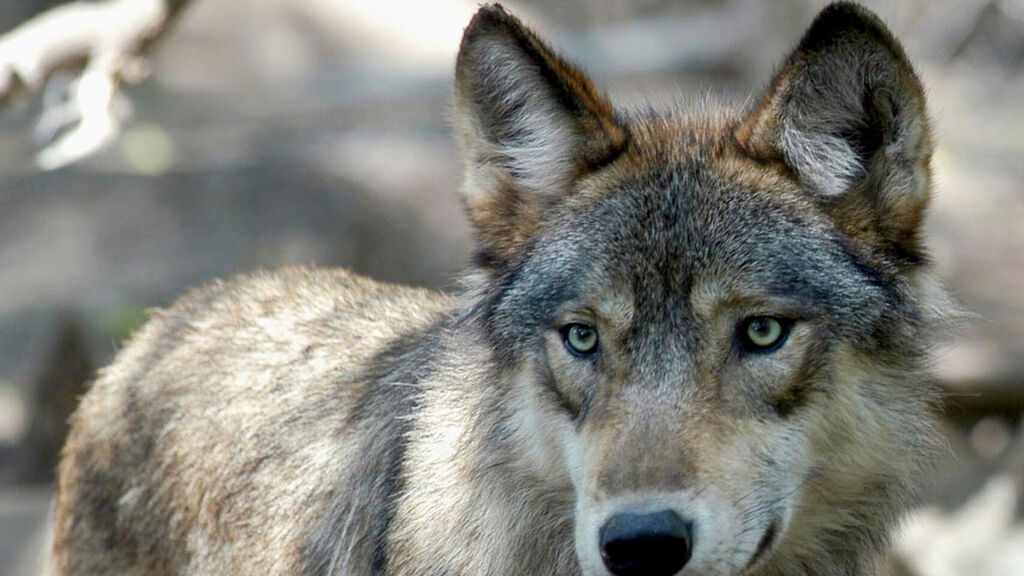Lobo: (74, 12, 958, 574)
